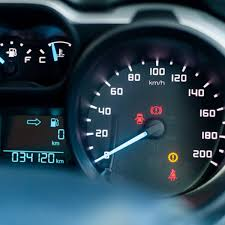Digital_Meter: (7, 143, 71, 167)
